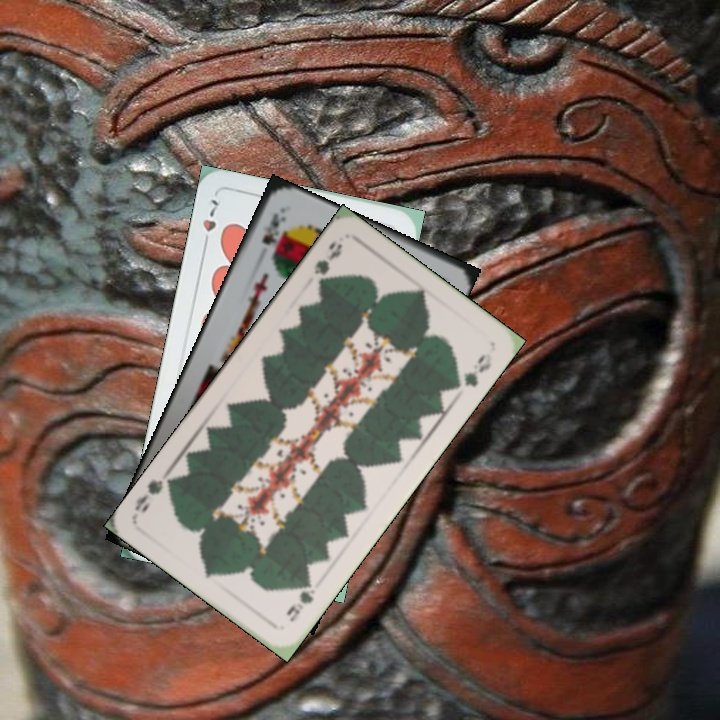G9: (309, 237, 345, 291), (282, 574, 318, 625)
H7: (198, 195, 222, 251)
SK: (257, 209, 289, 248)
